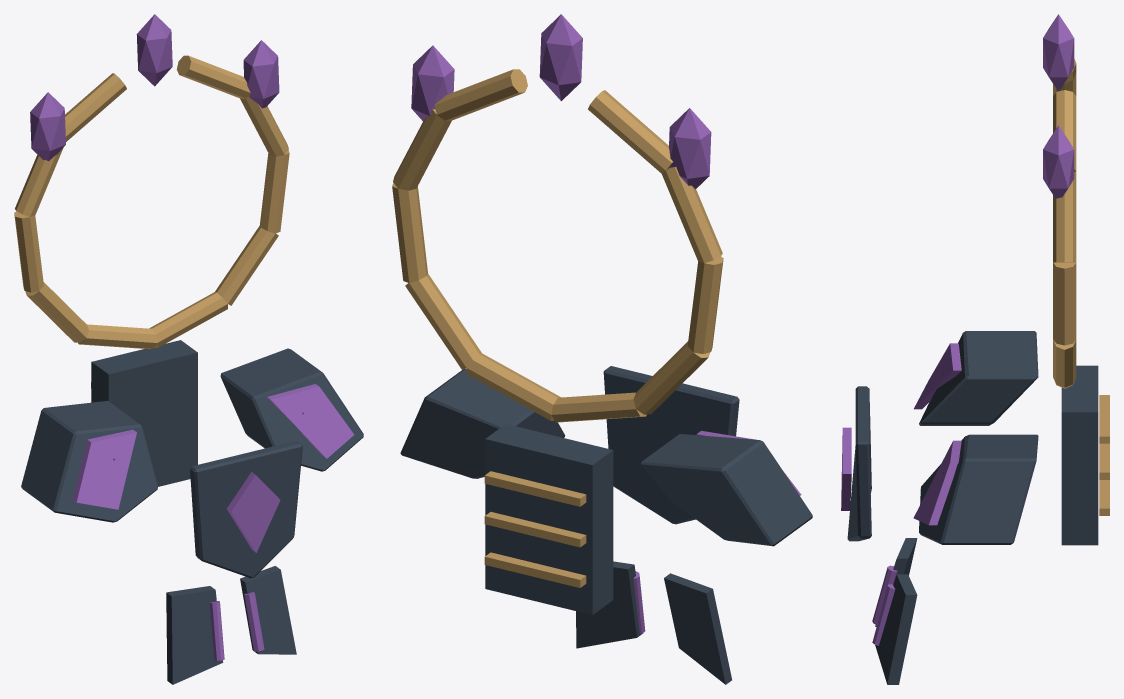
The model's file is forge-runekeeper-v2.glb.
The picture shows the model from 3 angles, left to right: view 1: azimuth 30°, elevation 25°; view 2: azimuth 150°, elevation 25°; view 3: azimuth 270°, elevation 25°; orthographic projection. The views are drawn at different scales.
Visible parts, largest first — view 1: 흉갑 외곽, 룬 후광, 어깨 외곽, 어깨 외곽.001, 허리 파편; view 2: 룬 후광, 흉갑 외곽, 어깨 외곽, 어깨 외곽.001, 허리 파편; view 3: 흉갑 외곽, 어깨 외곽.001, 룬 후광, 어깨 외곽, 허리 파편.
Part boxes in pixels (<box>): 흉갑 외곽: <box>91,340,302,578</box>; 룬 후광: <box>14,14,289,349</box>; 어깨 외곽: <box>21,401,157,522</box>; 어깨 외곽.001: <box>220,348,363,471</box>; 허리 파편: <box>166,566,296,684</box>; 룬 후광: <box>392,14,723,422</box>; 흉갑 외곽: <box>484,366,739,614</box>; 어깨 외곽: <box>640,430,812,546</box>; 어깨 외곽.001: <box>400,368,565,478</box>; 허리 파편: <box>576,561,731,684</box>; 흉갑 외곽: <box>841,365,1109,545</box>; 어깨 외곽.001: <box>913,434,1038,544</box>; 룬 후광: <box>1043,14,1076,388</box>; 어깨 외곽: <box>914,331,1038,425</box>; 허리 파편: <box>872,538,917,684</box>.
Bounding box in the file's own units: 1.25 × 2.3 × 0.8775.
